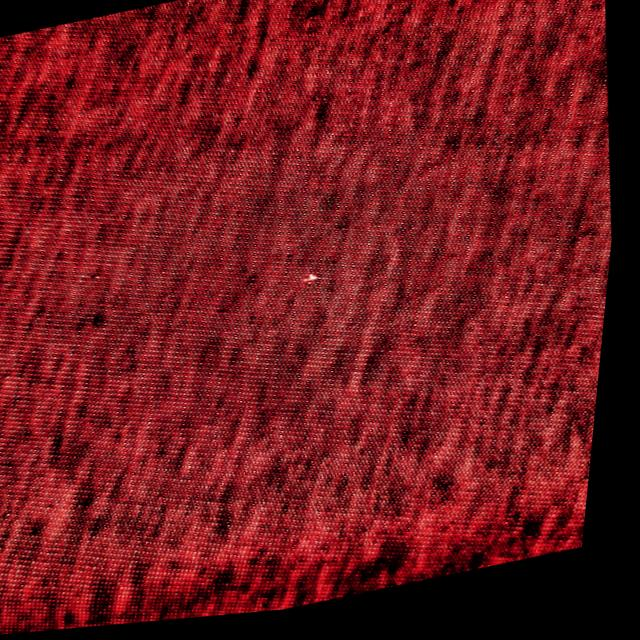Hole: (306, 269, 333, 292)
